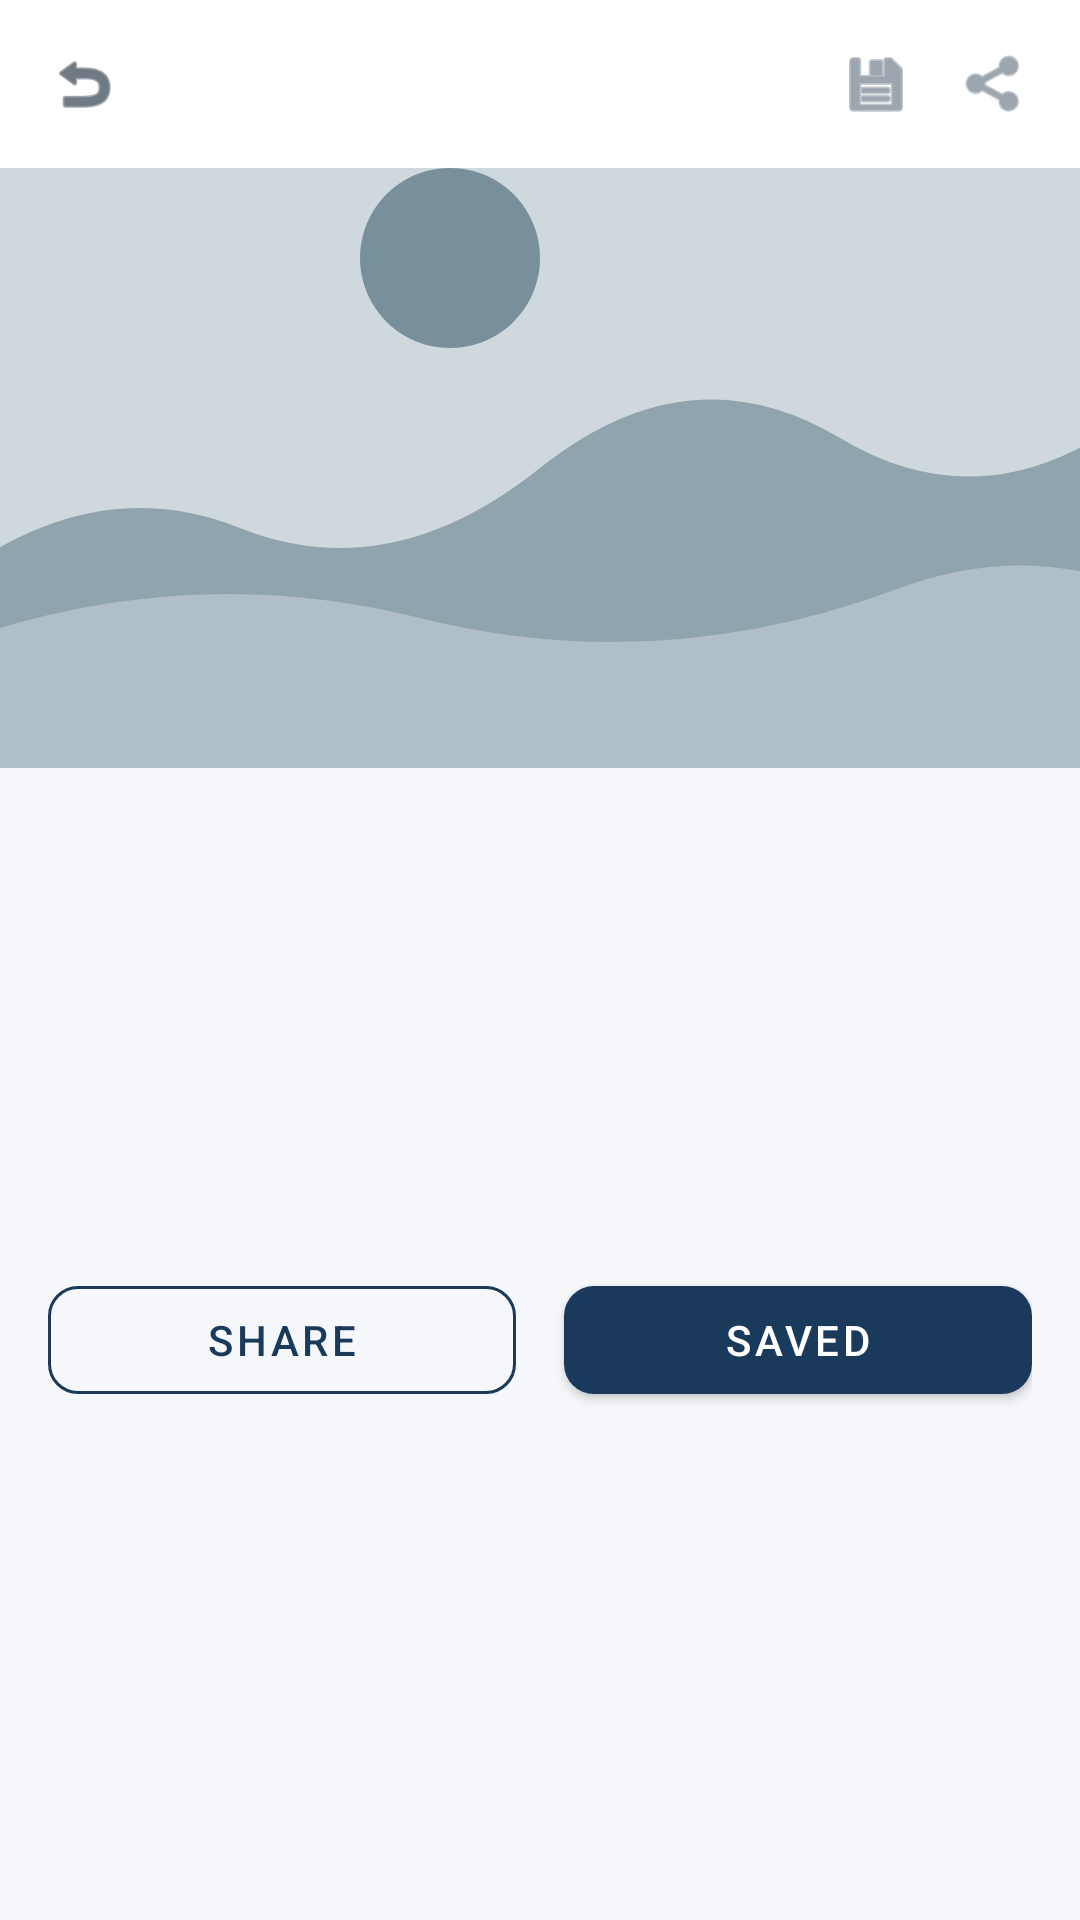

Icons on this 1080 x 1920 Android screen, each with the point to tap as (x=x, y=y):
revert: (x=85, y=84)
save: (x=876, y=84)
share: (x=992, y=84)
